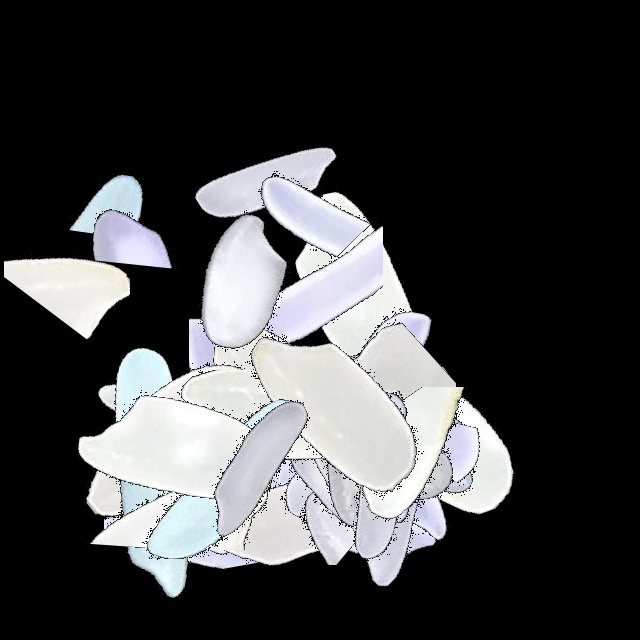Broken: (142, 411, 392, 584), (228, 125, 383, 375), (104, 373, 258, 623), (130, 370, 380, 518), (174, 117, 424, 264), (319, 387, 569, 529), (54, 411, 304, 550), (319, 284, 456, 534), (189, 239, 324, 489), (4, 121, 130, 371), (192, 390, 442, 514), (183, 446, 433, 565), (82, 80, 201, 330), (340, 271, 455, 521), (53, 388, 303, 499), (38, 53, 148, 303), (126, 364, 229, 614), (293, 416, 543, 510), (207, 401, 457, 494), (387, 302, 475, 552), (203, 288, 288, 538)
Full: (145, 56, 395, 306), (212, 390, 462, 640), (230, 161, 480, 411), (303, 310, 553, 560), (200, 326, 450, 576), (279, 351, 529, 601), (156, 352, 406, 602), (63, 296, 313, 546), (16, 322, 266, 572), (228, 286, 478, 536), (272, 329, 522, 579), (271, 390, 521, 640), (244, 272, 494, 522), (273, 338, 523, 588), (290, 311, 540, 561), (212, 343, 462, 593), (168, 270, 418, 520), (221, 345, 471, 595), (40, 312, 290, 562), (29, 382, 279, 632), (229, 360, 479, 610), (233, 334, 483, 584), (252, 354, 502, 604), (257, 329, 507, 579), (209, 283, 459, 533), (97, 353, 347, 603), (53, 323, 303, 573), (134, 343, 384, 593), (115, 157, 365, 407)
